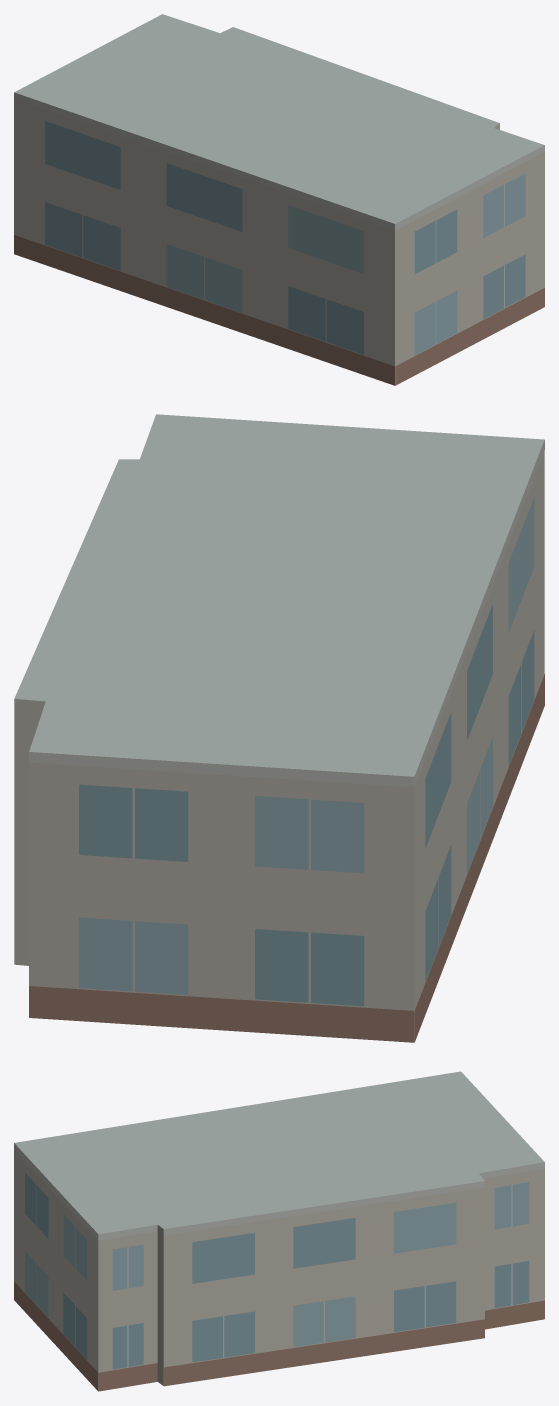
File: survey-upis-32846658.glb
3 renders of one model, top to bottom at view 1: azimuth 30°, elevation 25°; view 2: azimuth 150°, elevation 25°; view 3: azimuth 270°, elevation 25°, orthographic. The views are drawn at different scales.
Visible parts, largest first — view 1: survey-upis-32846658.tmp; view 2: survey-upis-32846658.tmp; view 3: survey-upis-32846658.tmp.
Boxes of the visible parts, x1,y1,x2,y2 form: survey-upis-32846658.tmp: [14, 14, 544, 385]; survey-upis-32846658.tmp: [14, 414, 544, 1042]; survey-upis-32846658.tmp: [14, 1071, 544, 1391].
Size of the model in its own units: 13.58 by 6.1 by 18.68.
